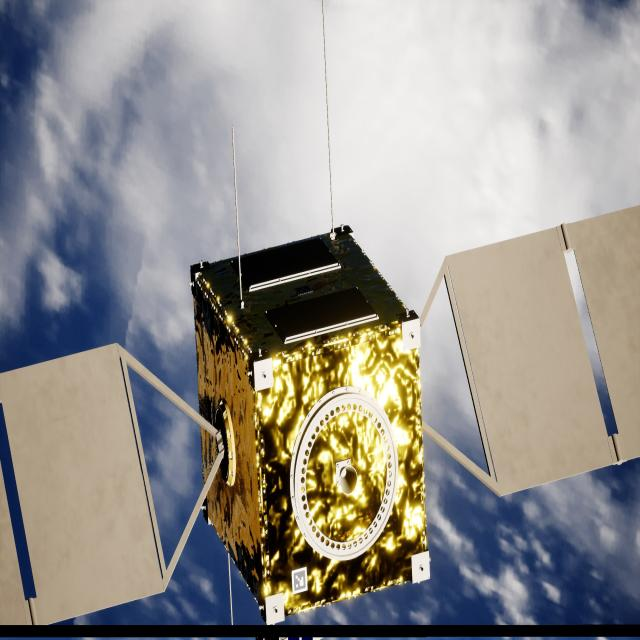medium_debris: (0, 217, 640, 629)
